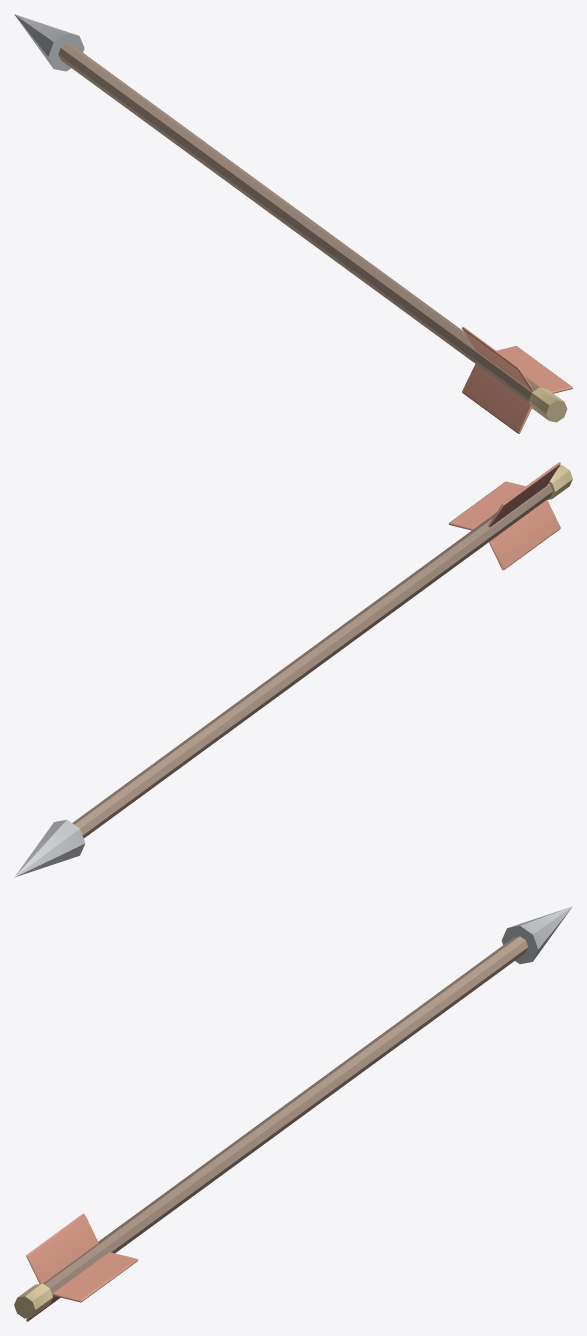
Rendered from Bow_Bolt.glb.
3 renders of one model, top to bottom at view 1: azimuth 30°, elevation 25°; view 2: azimuth 150°, elevation 25°; view 3: azimuth 330°, elevation 25°, orthographic.
Visible parts, largest first — view 1: Cylinder, Cube.002, Cone, Cube, Cube.001, Cylinder.001; view 2: Cylinder, Cube.002, Cone, Cube, Cube.001; view 3: Cylinder, Cube.001, Cube, Cone, Cylinder.001.
Boxes of the visible parts, x1=… form: Cylinder: x1=58, y1=44, x2=539, y2=402; Cube.002: x1=462, y1=364, x2=531, y2=433; Cone: x1=14, y1=14, x2=84, y2=71; Cube: x1=496, y1=346, x2=572, y2=393; Cube.001: x1=462, y1=327, x2=533, y2=391; Cylinder.001: x1=529, y1=387, x2=567, y2=422; Cylinder: x1=72, y1=483, x2=552, y2=838; Cube.002: x1=489, y1=500, x2=560, y2=570; Cone: x1=14, y1=819, x2=85, y2=877; Cube: x1=449, y1=481, x2=525, y2=530; Cube.001: x1=488, y1=462, x2=560, y2=526; Cylinder: x1=43, y1=936, x2=528, y2=1299; Cube.001: x1=26, y1=1213, x2=98, y2=1283; Cube: x1=53, y1=1252, x2=137, y2=1302; Cone: x1=501, y1=906, x2=572, y2=964; Cylinder.001: x1=14, y1=1283, x2=52, y2=1318.
Bounding box in the file's own units: 0.0218 × 0.025 × 0.372.
